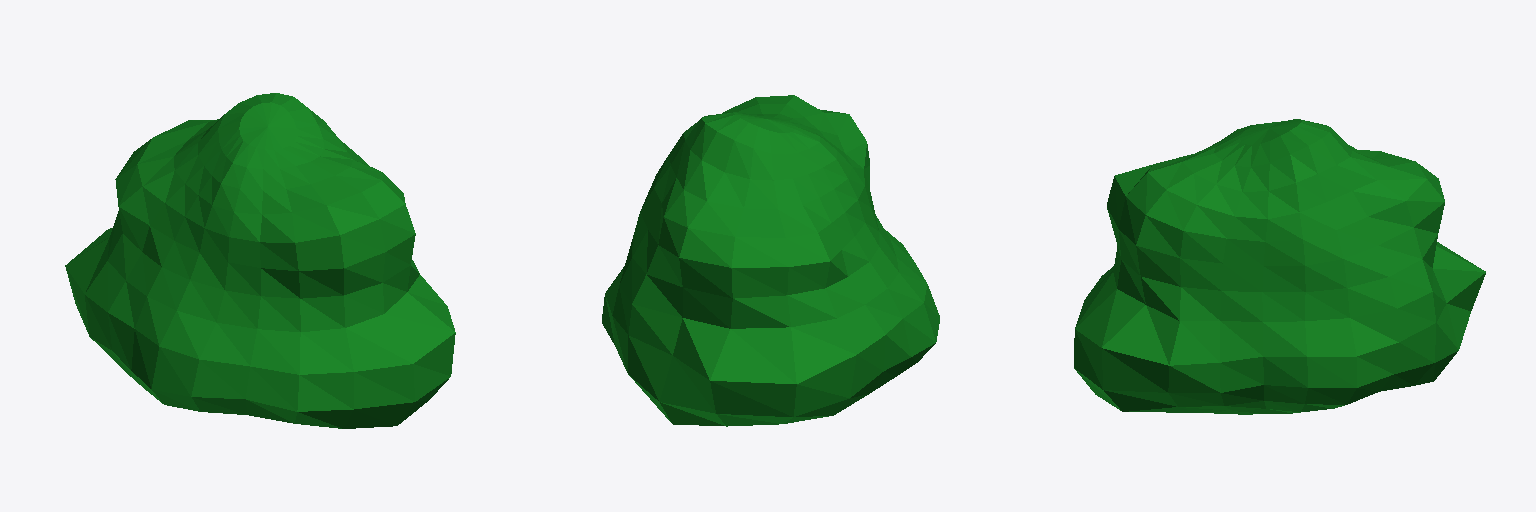
Rendered from arbustoTutorial.obj.
3 views of the same model, side by side, from view 1: azimuth 30°, elevation 25°; view 2: azimuth 150°, elevation 25°; view 3: azimuth 270°, elevation 25° (orthographic).
Visible parts, largest first — view 1: Sphere.001; view 2: Sphere.001; view 3: Sphere.001.
Boxes of the visible parts, x1=… form: Sphere.001: x1=65, y1=93, x2=455, y2=428; Sphere.001: x1=602, y1=95, x2=939, y2=426; Sphere.001: x1=1074, y1=119, x2=1485, y2=414.
Bounding box in the file's own units: 0.9725 × 0.9637 × 1.27.